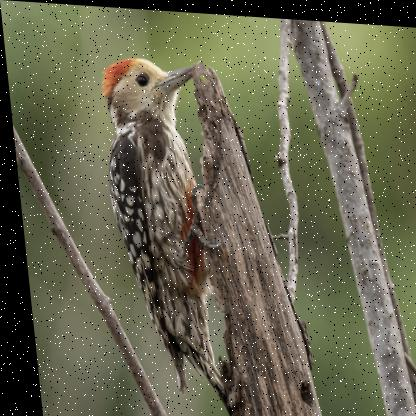Burung: (95, 54, 219, 393)
